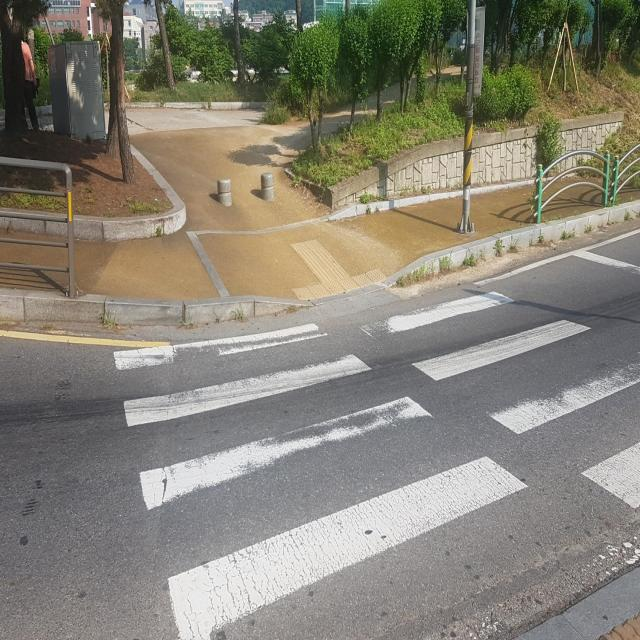횡단보도: (111, 284, 640, 639)
